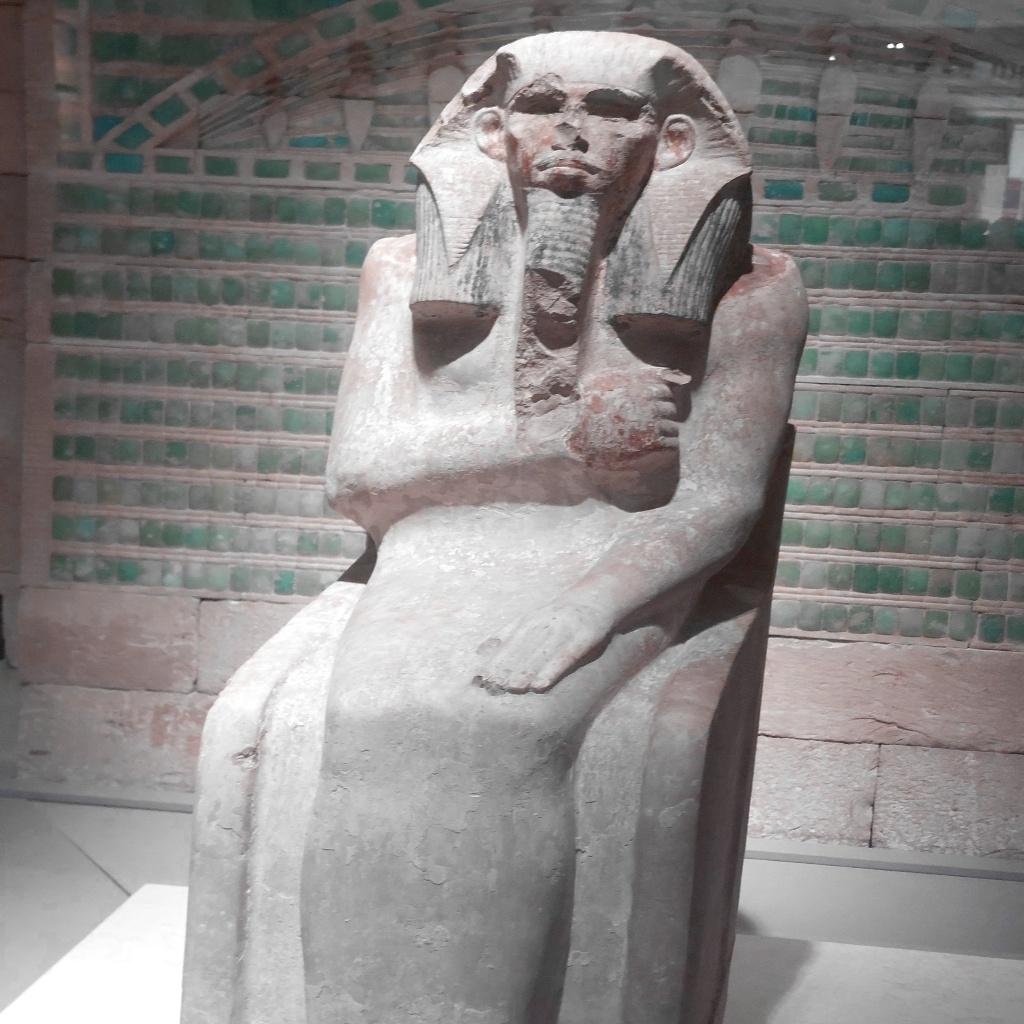Seated Statue of Djoser: (176, 28, 816, 1020)
